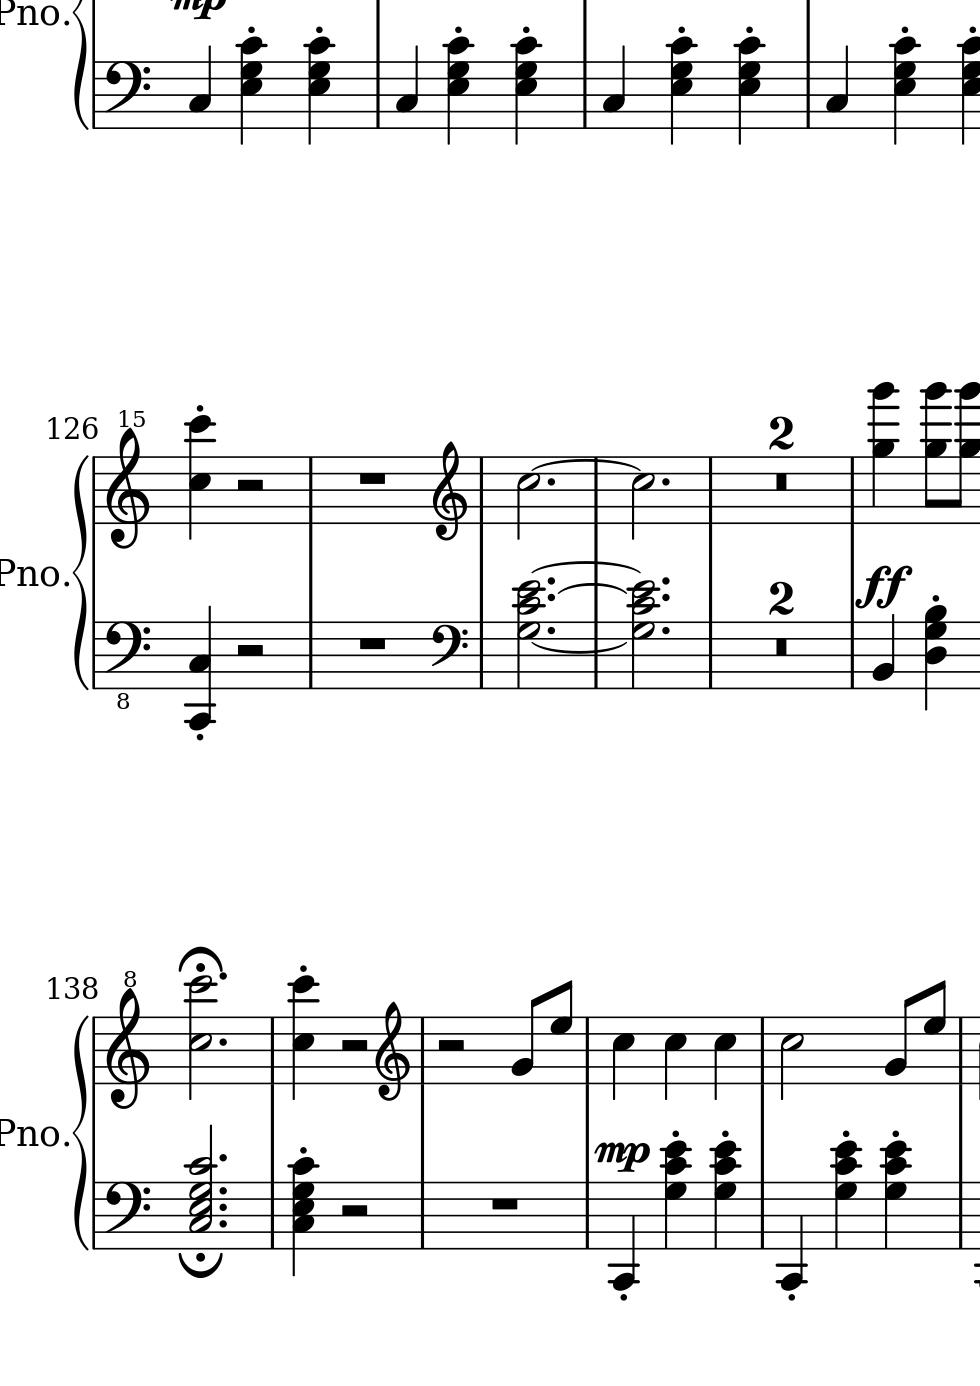1: (46, 415, 60, 442), (46, 975, 60, 1001), (117, 407, 129, 429)
2: (62, 415, 78, 443)
2_4th: (187, 1120, 214, 1252)
2_5: (629, 454, 657, 541), (513, 454, 540, 543), (777, 1015, 805, 1100)
2_5_12: (183, 975, 217, 1099)
2_th: (512, 578, 541, 689), (628, 579, 654, 691)
3: (63, 975, 80, 1001)
4_-4: (609, 1178, 638, 1293), (776, 1180, 806, 1291)
4_-4_3: (185, 606, 218, 732)
4_2: (870, 613, 896, 692)
4_3: (186, 43, 213, 131), (395, 42, 419, 131), (602, 43, 626, 130), (825, 42, 848, 129)
4_4th: (288, 1158, 317, 1275)
4_5: (661, 1015, 688, 1103), (609, 1015, 635, 1103), (711, 1015, 736, 1102)
4_5_12: (183, 414, 216, 540), (288, 973, 321, 1096)
4_9_16: (869, 380, 899, 526)
4_th: (234, 31, 267, 150), (301, 32, 334, 148), (830, 1137, 863, 1252), (509, 31, 541, 148), (441, 32, 473, 150), (664, 33, 696, 150), (708, 1138, 740, 1255), (879, 1137, 911, 1252), (732, 31, 763, 148), (889, 32, 920, 147), (661, 1137, 692, 1252), (921, 603, 948, 714), (955, 34, 980, 147)
6: (80, 414, 99, 442)
8: (80, 973, 98, 1002)
8_2: (509, 993, 542, 1085), (882, 994, 915, 1085)
8_7: (922, 979, 947, 1086), (549, 979, 572, 1086)
8_9_16: (921, 382, 953, 526), (953, 382, 980, 526)
Brace: (70, 454, 89, 690), (73, 1013, 88, 1252)
DHigh_Gclef: (104, 408, 154, 548)
Fclef: (102, 59, 152, 131), (102, 1180, 152, 1251), (428, 620, 468, 691)
Fermata_above: (176, 945, 228, 981), (175, 1248, 225, 1278)
Gclef: (430, 439, 469, 543), (374, 1000, 410, 1103)
High_Gclef: (105, 968, 150, 1112)
Lower_Fclef: (102, 620, 151, 712)
Pno: (1, 555, 59, 593), (1, 1115, 59, 1151), (2, 1, 59, 31)
Rests1: (354, 632, 391, 653), (354, 467, 390, 488), (487, 1194, 522, 1213)
Rests2: (232, 475, 269, 496), (335, 1036, 372, 1057), (230, 641, 268, 661), (433, 1036, 469, 1057), (336, 1201, 373, 1221)
Single_barline: (701, 456, 719, 523), (701, 621, 719, 688), (301, 457, 319, 523), (844, 457, 862, 523), (301, 622, 319, 688), (843, 622, 861, 688), (413, 1183, 431, 1248), (369, 62, 386, 129), (576, 62, 593, 129), (754, 1017, 771, 1083), (413, 1018, 430, 1084), (579, 1018, 596, 1084), (800, 62, 816, 129), (588, 457, 603, 525), (472, 621, 488, 689), (472, 457, 488, 524), (953, 1017, 969, 1084), (579, 1182, 595, 1249), (589, 622, 603, 690), (953, 1182, 968, 1250), (754, 1182, 769, 1249), (264, 1182, 279, 1248), (265, 1018, 280, 1083), (87, 1018, 101, 1084), (88, 457, 101, 524), (88, 621, 101, 688), (88, 1183, 101, 1249), (89, 62, 101, 128)
Slur: (530, 560, 641, 574), (531, 459, 645, 472), (532, 642, 628, 655), (559, 583, 628, 596)
dot: (658, 474, 672, 490), (658, 591, 673, 604), (659, 622, 672, 638), (657, 575, 672, 587), (216, 1035, 230, 1049), (544, 591, 557, 606), (544, 476, 557, 490), (545, 622, 557, 637), (544, 575, 557, 587), (216, 1218, 229, 1231), (217, 1153, 229, 1166), (217, 1183, 228, 1197), (217, 973, 229, 983)
ff: (856, 560, 915, 612)
mp: (593, 1138, 653, 1175)
